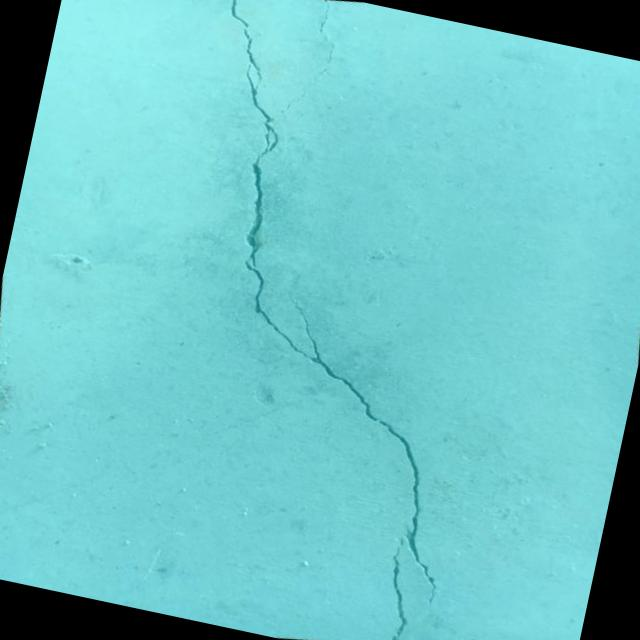crack: (108, 0, 555, 638), (370, 534, 427, 640), (301, 0, 348, 83), (276, 82, 310, 120)
